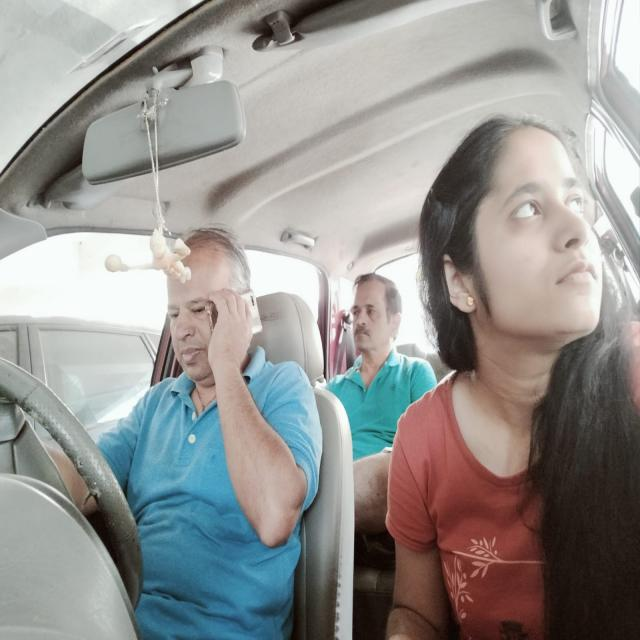mobile: (205, 292, 268, 345)
person: (415, 113, 608, 344), (163, 230, 253, 382), (348, 271, 403, 355)
